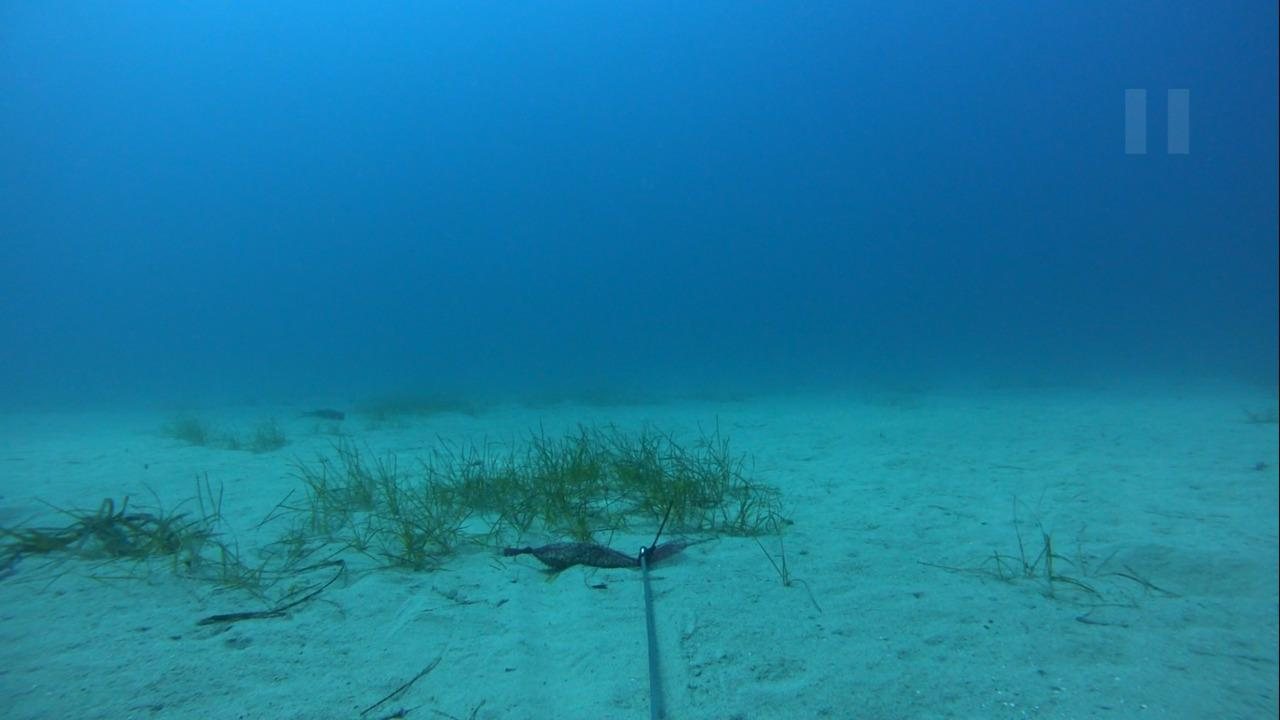dactylopterus: (292, 402, 345, 423)
